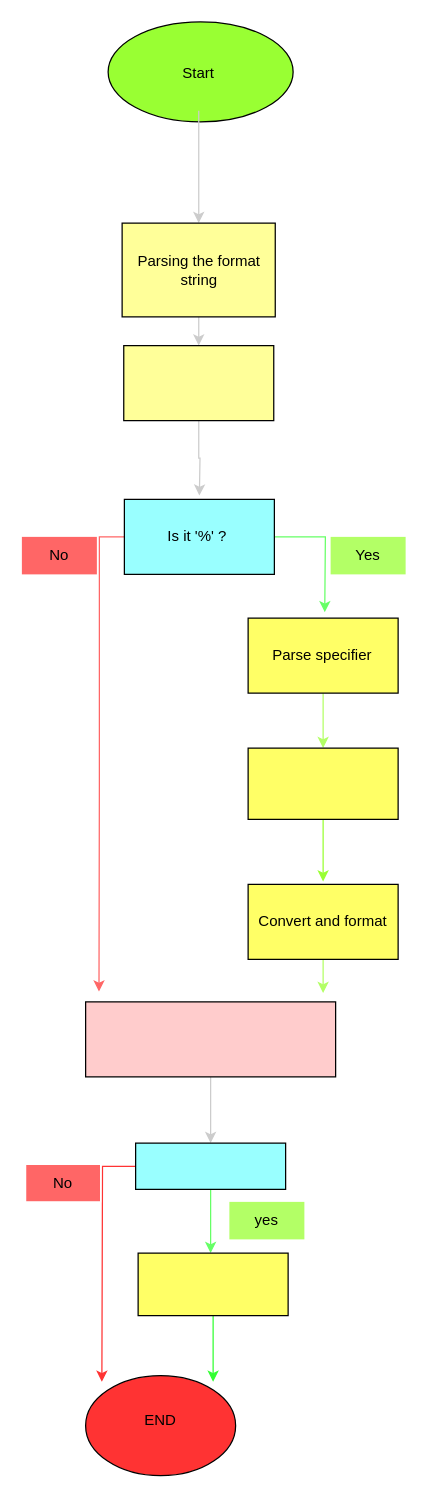
The diagram is 426 pixels wide and 1498 high, and some of its shapes have lost their labels. The centre of each missing label's shape, as x and y in pixels:
End of string ?: (x=210, y=1165)
Output character: (x=210, y=1039)
Retrieve arg: (x=322, y=783)
Return char count: (x=212, y=1284)
Traversing the format string: (x=198, y=382)
